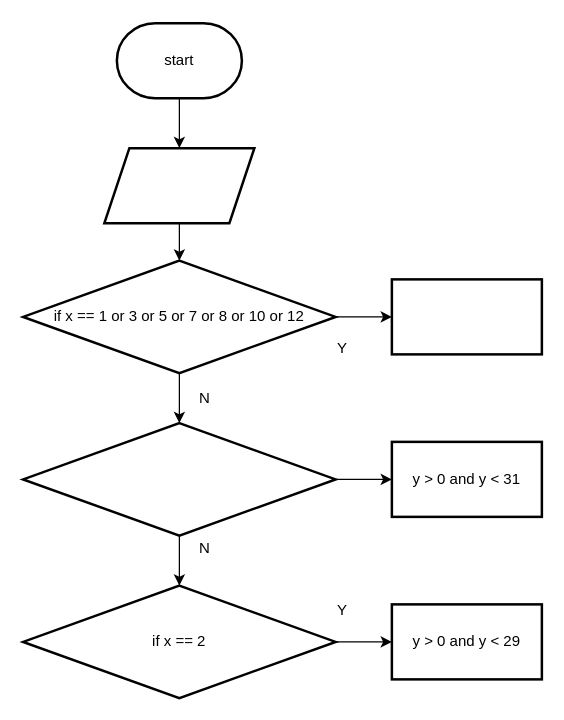
Some shapes in this 564 by 720 pixel diagram are drawn without their labels. Each missing label, with the centre of its shape:
if x == 4 or 6 or 9 or 11: (178,478)
x, y: (178,185)
y > 0 and y < 32: (466,316)
